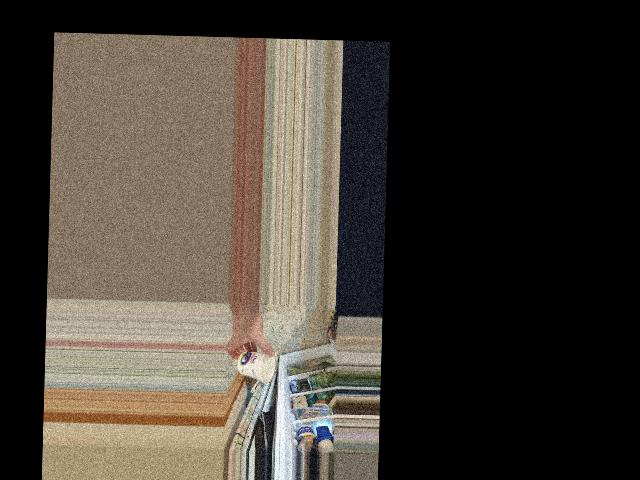cotage: (235, 344, 277, 384)
